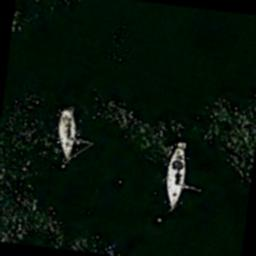boat: (160, 142, 190, 211), (51, 106, 82, 164)
